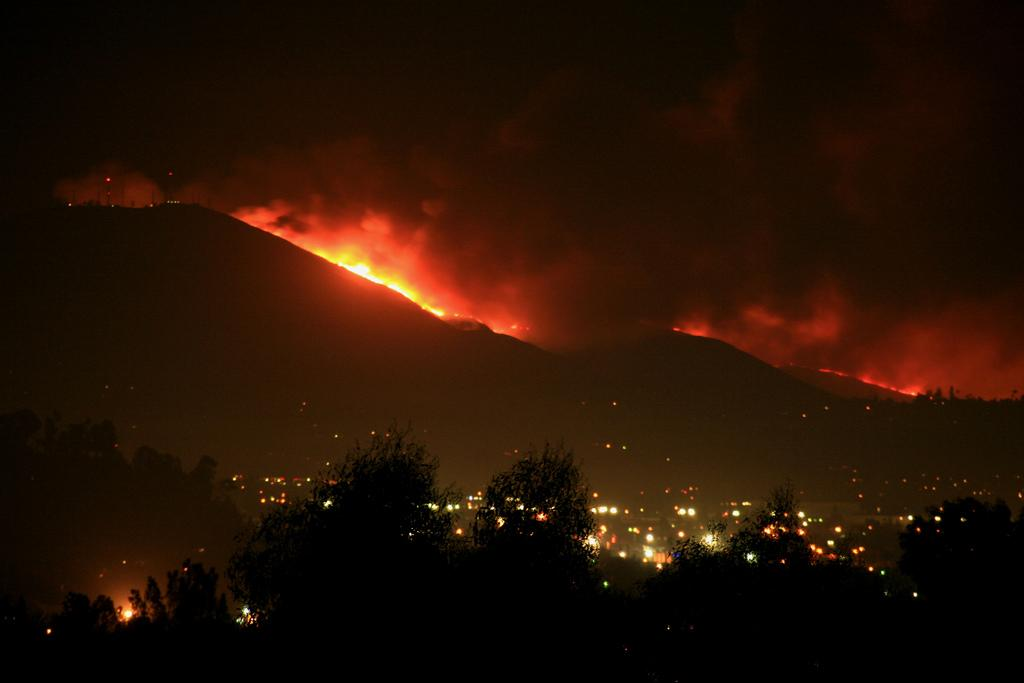fire: (345, 255, 377, 282), (388, 282, 425, 302)
